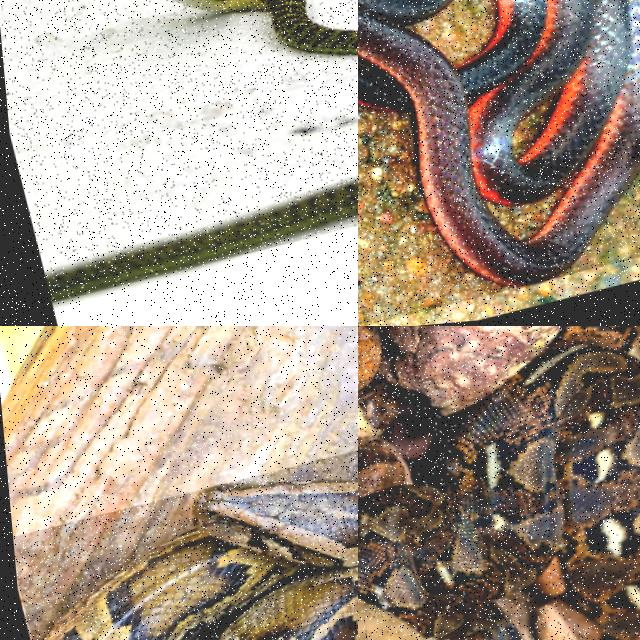Calliophis intestinalis: (358, 0, 639, 286)
Chrysopelea ornata: (47, 181, 357, 300)
Malayopython reticulatus: (358, 326, 639, 639)
Python bivittatus: (44, 482, 357, 639)
snake: (358, 326, 639, 639), (358, 0, 639, 286), (44, 482, 357, 639), (47, 181, 357, 300)
